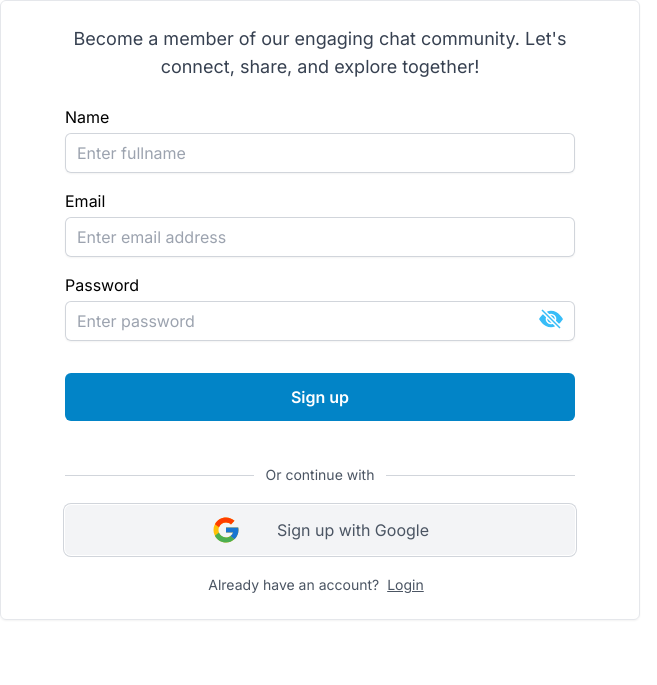
Test: Auth-form component › confirm user events on input and form submission
Type "Testing name input" into the field labelled "Name".
click(320, 153); type("Testing name input")  # box [65,133,575,173]
Type "test" into the field labelled "Email".
click(320, 237); type("test")  # box [65,217,575,257]
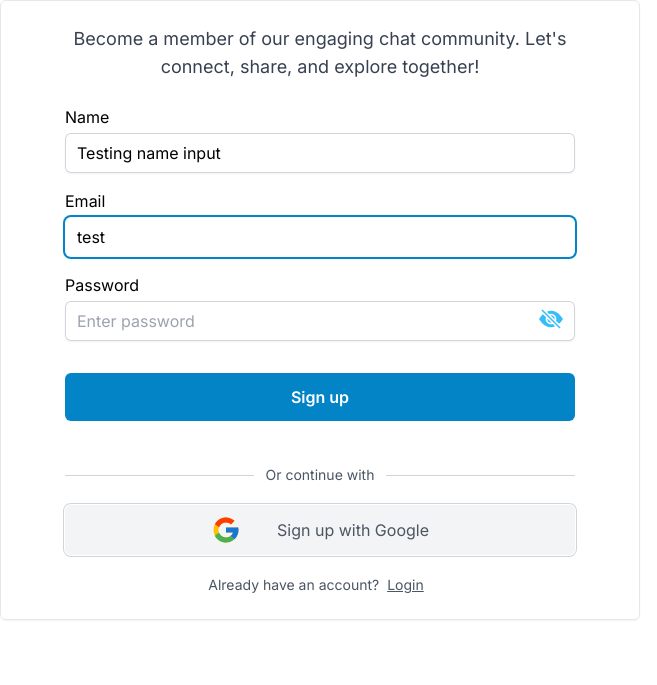
Type "test" into the password field labelled "Password".
click(320, 321); type("test")  # box [65,301,575,341]
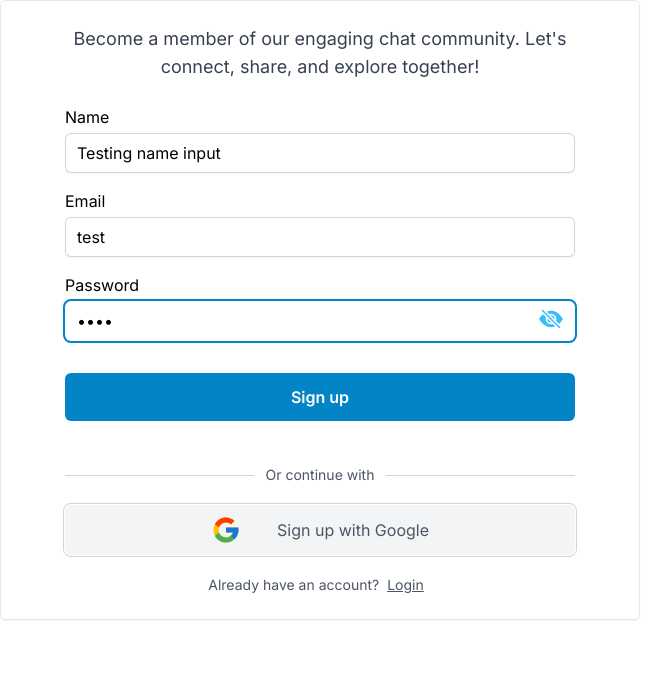
Click the button "Sign up".
click(320, 397)  # box [65,373,575,421]
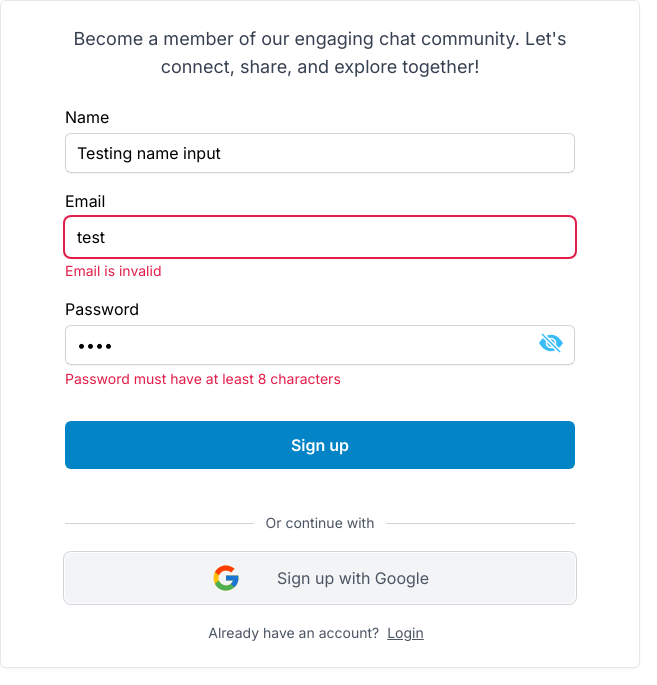
Check: the text "Email is invalid" is shown, box [65,262,162,279]
Check: the text "Password must have at least 8 characters" is shown, box [65,370,341,387]
Clear error input fields
Clear the field labelled "Email" at coordinates (320, 237), box [65,217,575,257]
Clear the password field labelled "Password" at coordinates (320, 345), box [65,325,575,365]
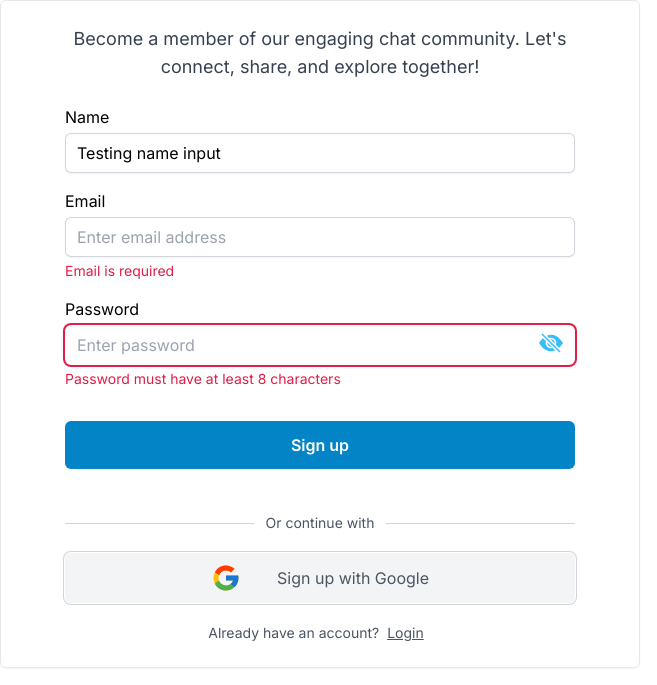
Type "test@mail.co.uk" into the field labelled "Email".
click(320, 237); type("test@mail.co.uk")  # box [65,217,575,257]
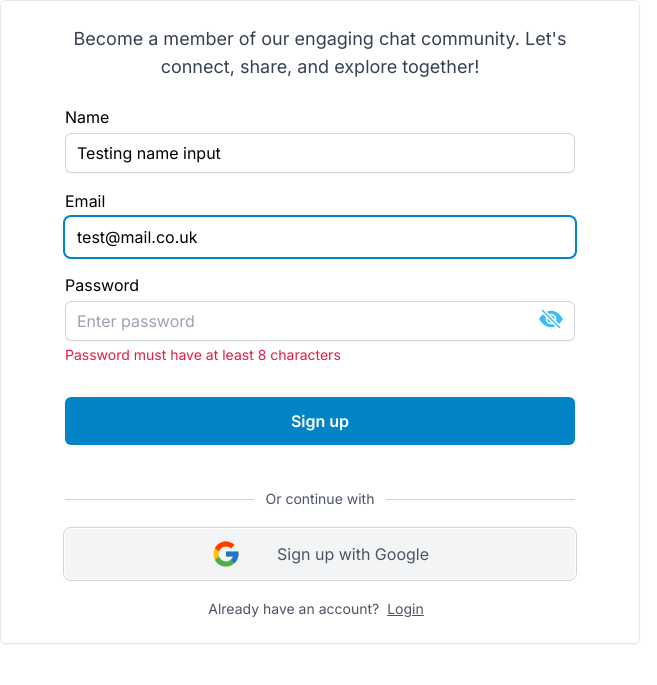
Type "passwordtest321" into the password field labelled "Password".
click(320, 321); type("passwordtest321")  # box [65,301,575,341]
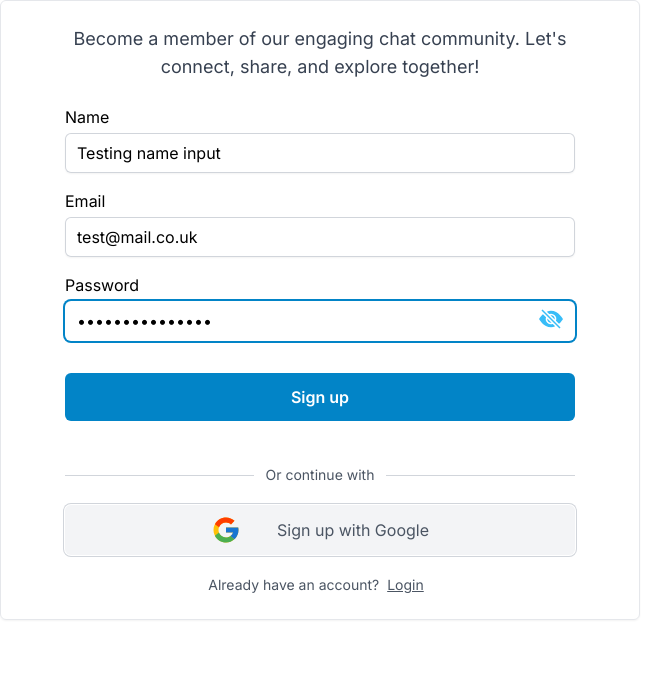
Check: the text "Email is invalid" is not shown
Check: the text "Password must have at least 8 characters" is gone
